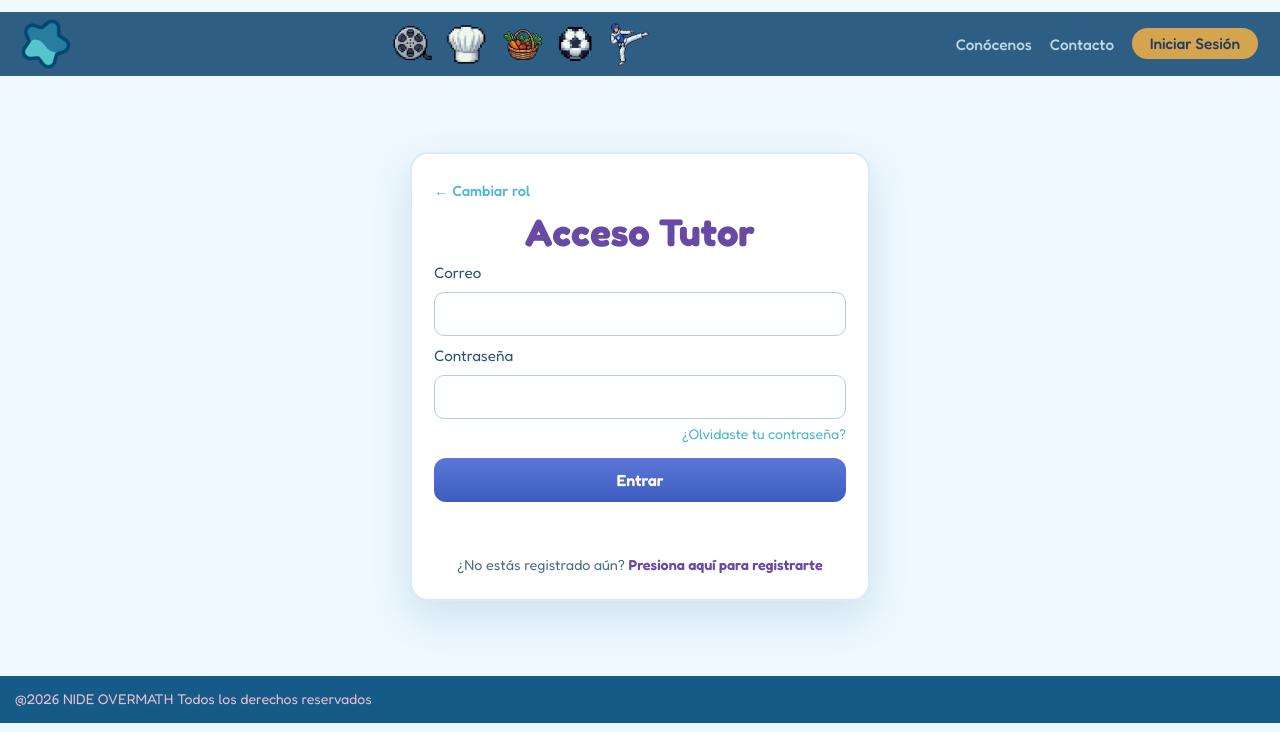
it: LoginPage › muestra error del servidor cuando las credenciales son incorrectas
The image size is (1280, 732).
Type "bad@test.com" into the field labelled "Correo" at (640, 314), box x1=434 y1=292 x2=846 y2=336
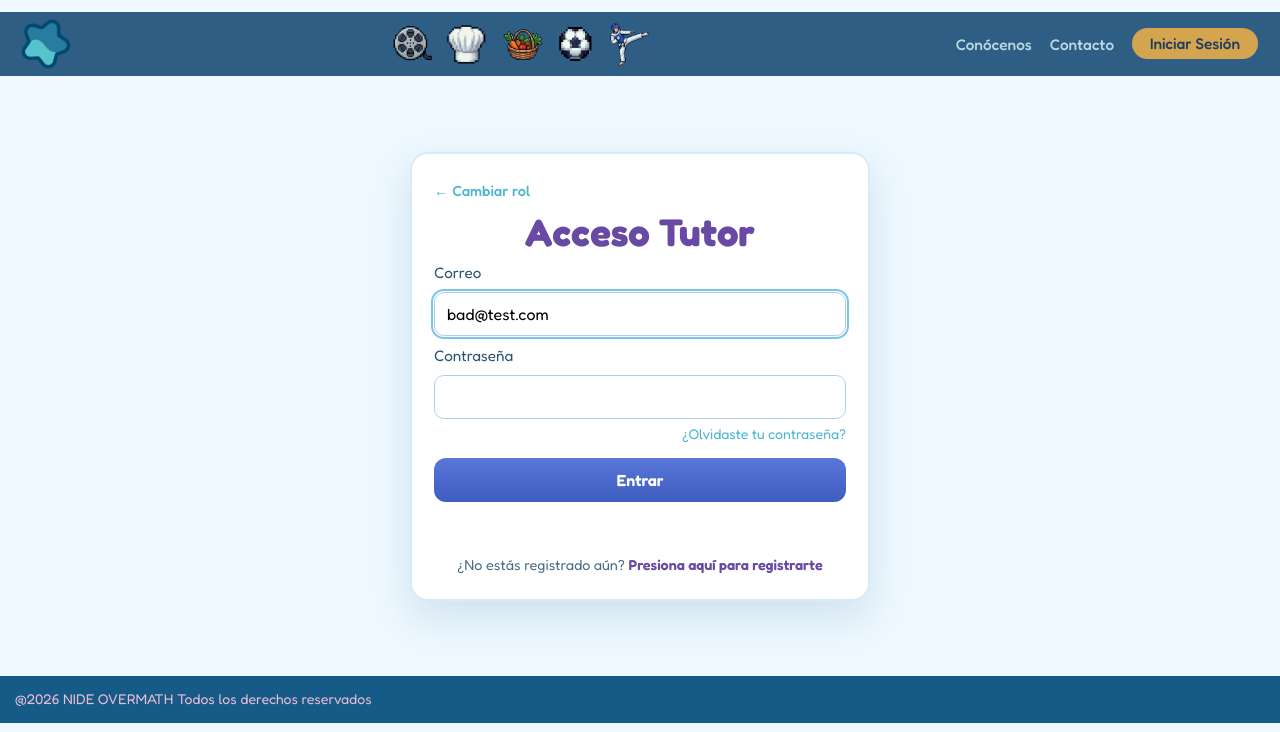
Type "wrongpass123" into the password field labelled "Contraseña" at (640, 396), box x1=434 y1=374 x2=846 y2=418
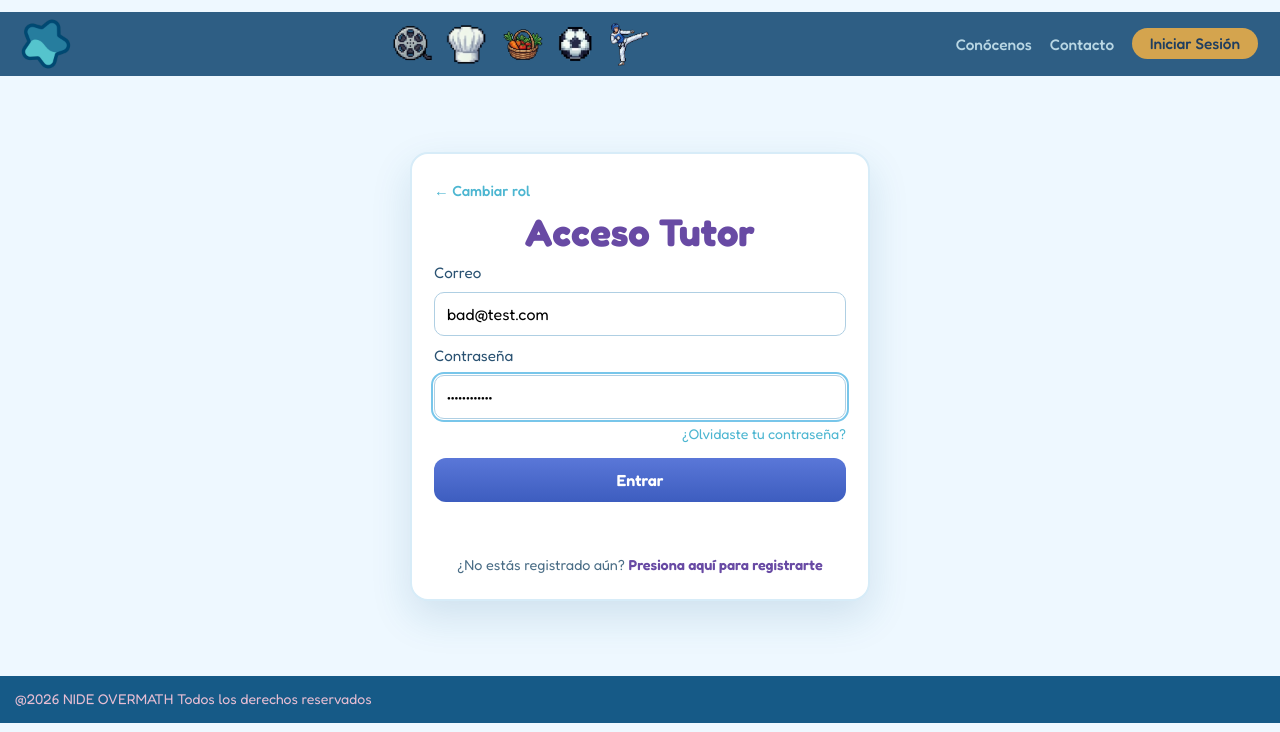
Click the button "Entrar" at (640, 480), box x1=434 y1=458 x2=846 y2=502
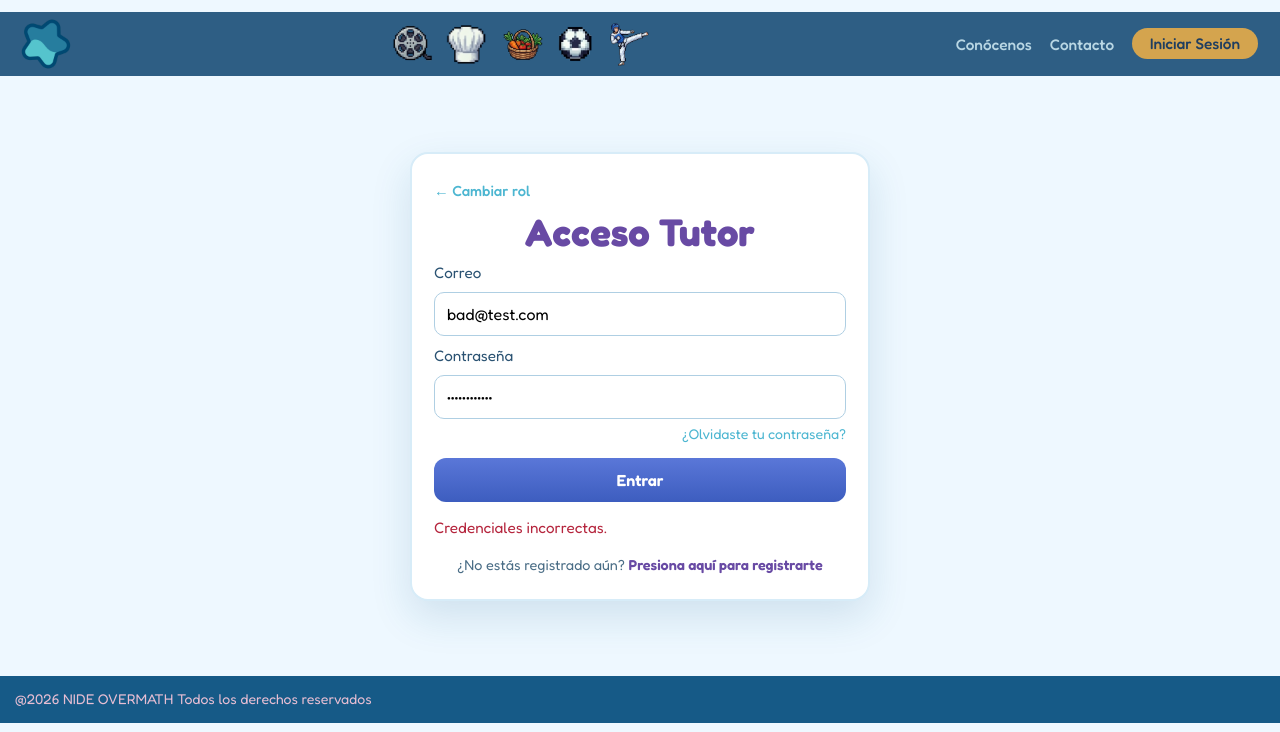
expect the message reads "Credenciales incorrectas.": met, box x1=434 y1=518 x2=607 y2=536
